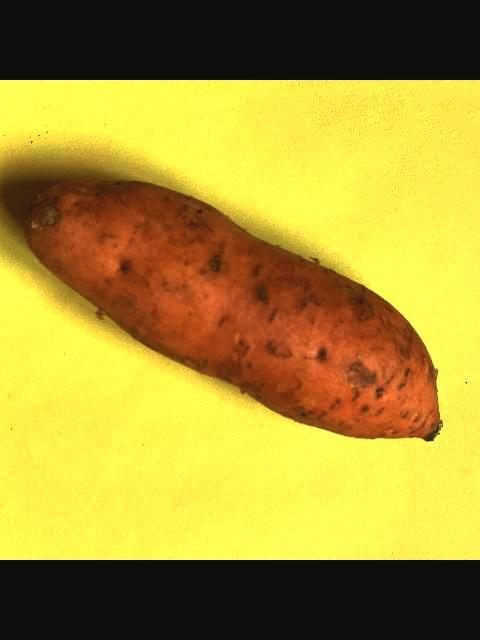sweetpotato: (20, 176, 442, 442)
